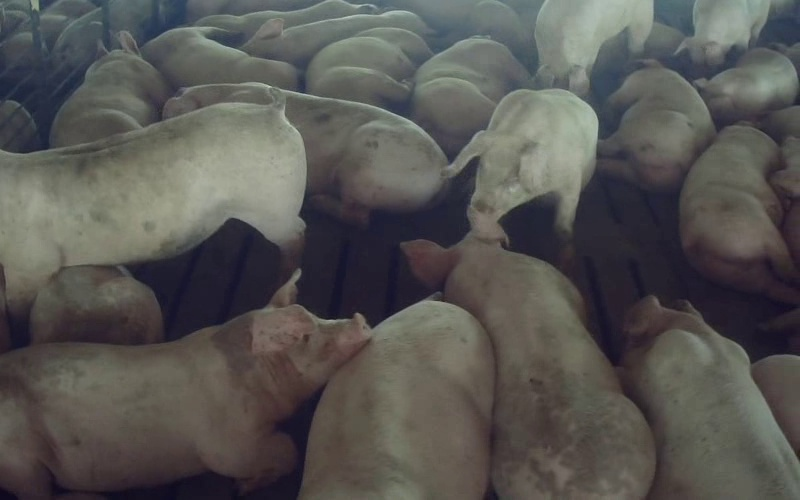pig: (0, 270, 370, 497), (403, 206, 654, 499), (0, 94, 305, 317), (300, 301, 494, 499), (621, 296, 799, 499), (679, 123, 799, 303), (448, 89, 596, 234), (286, 92, 446, 225), (597, 60, 715, 191), (411, 37, 530, 158), (49, 31, 171, 146), (535, 0, 653, 96), (241, 10, 429, 66), (306, 28, 432, 110), (141, 27, 298, 89), (694, 48, 797, 127), (675, 0, 769, 65)
